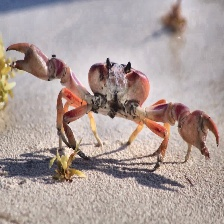crab: (88, 58, 151, 119)
